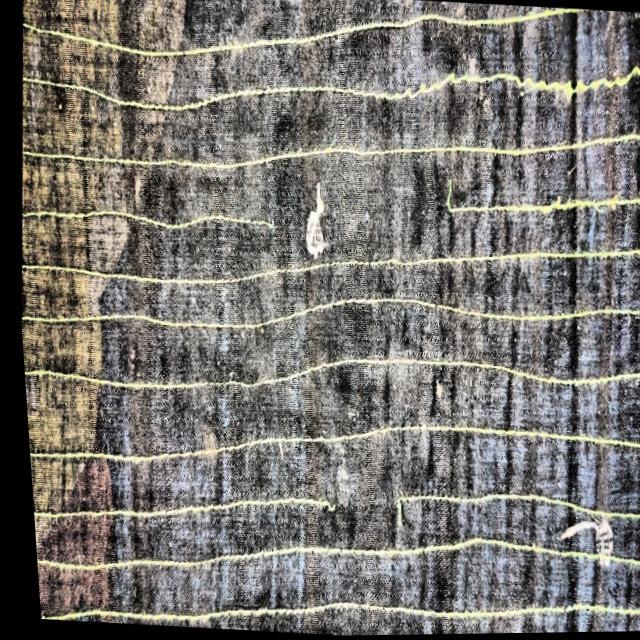Stitch: (206, 171, 520, 273), (501, 34, 640, 135), (298, 458, 407, 550), (536, 495, 619, 580)
